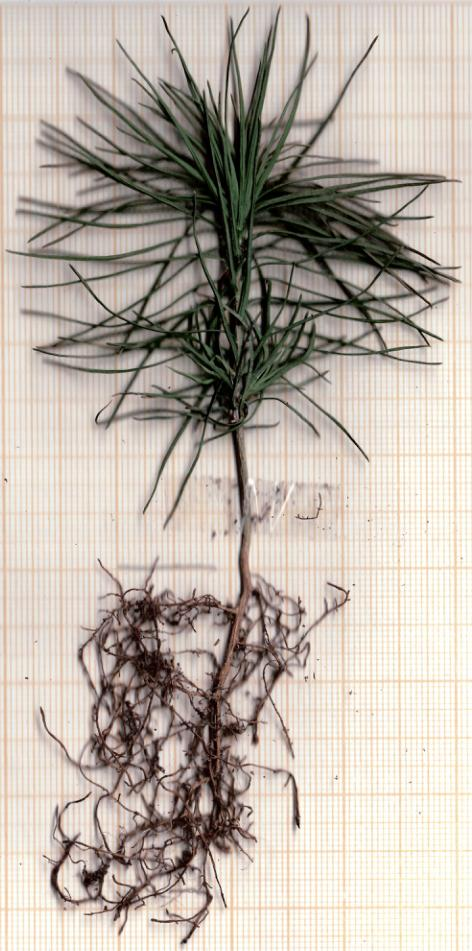flower: (13, 16, 458, 433)
root: (42, 584, 354, 943)
stem: (224, 430, 258, 590)
